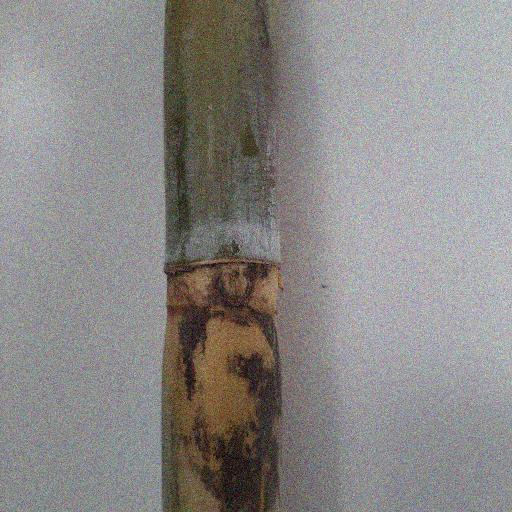Bud: (216, 267, 252, 308)
